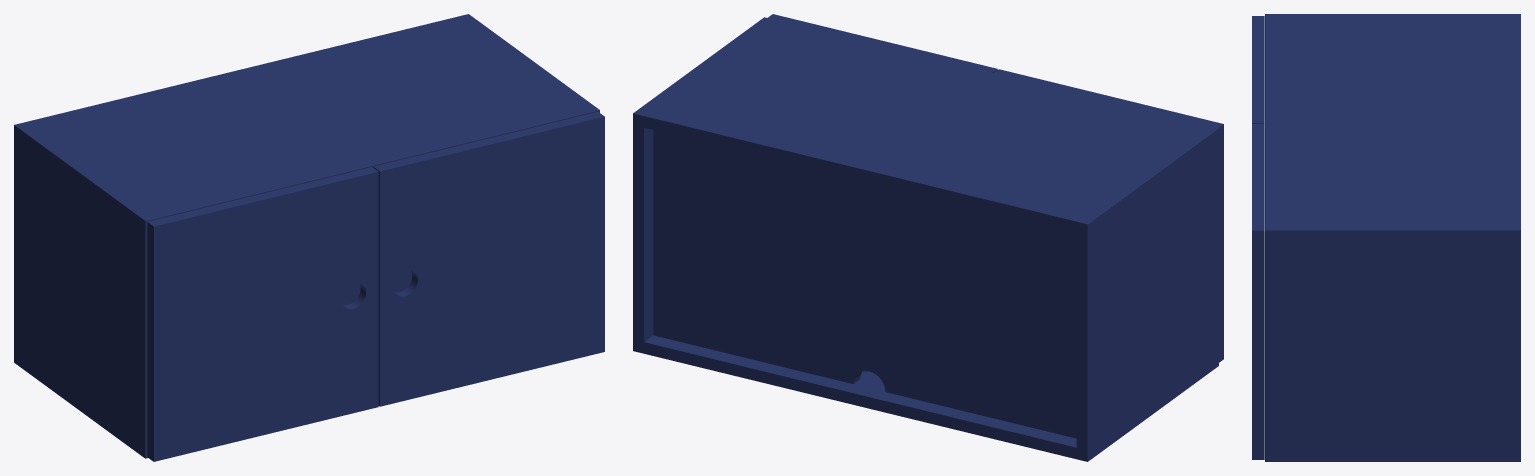
The model's file is MOD_2X1_D_B_AP_AF.glb.
3 views of the same model, side by side, from view 1: azimuth 30°, elevation 25°; view 2: azimuth 150°, elevation 25°; view 3: azimuth 270°, elevation 25° (orthographic). The views are drawn at different scales.
Bounding box in the file's own units: 720 × 360 × 378.
